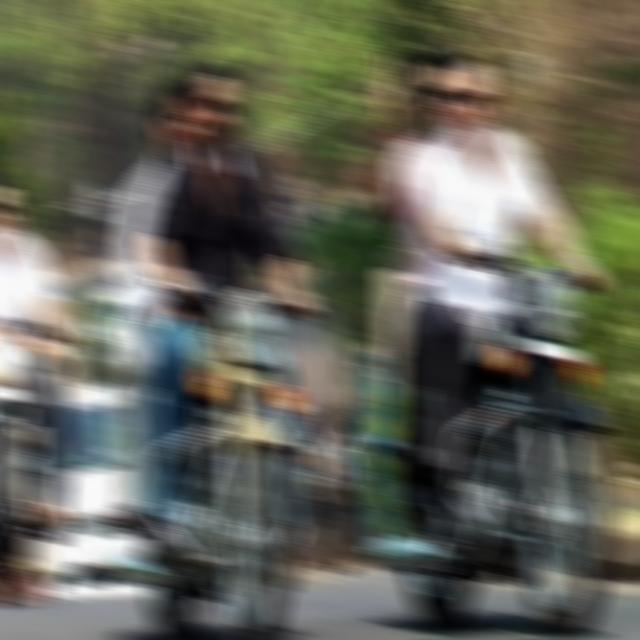Without Helmet: (179, 52, 245, 152), (444, 43, 501, 145), (0, 165, 25, 248)
